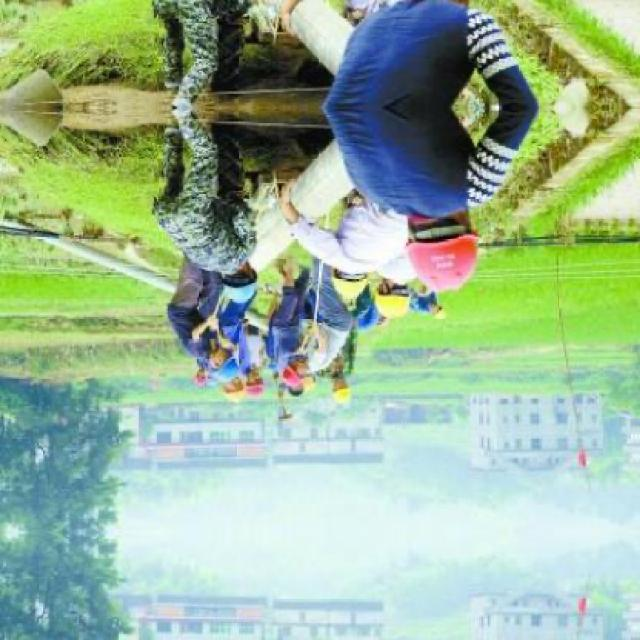con casco: (328, 185, 513, 297), (196, 246, 270, 310), (272, 347, 326, 389)
